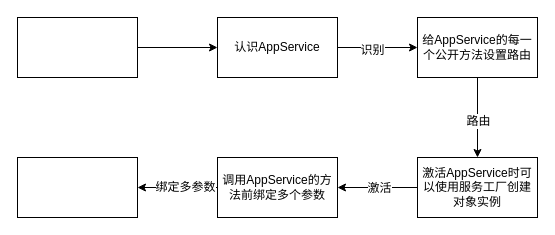
This 555x235 diagram has some shape labels left out. Each missing label, with the centre of its shape:
MVC开始: (77,47)
调用云ERP的特色Action: (77,187)
